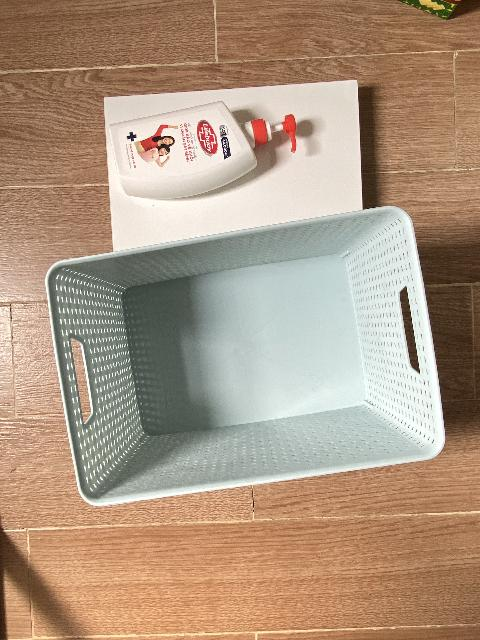cart: (44, 207, 446, 509)
life-buoy: (110, 101, 297, 200)
